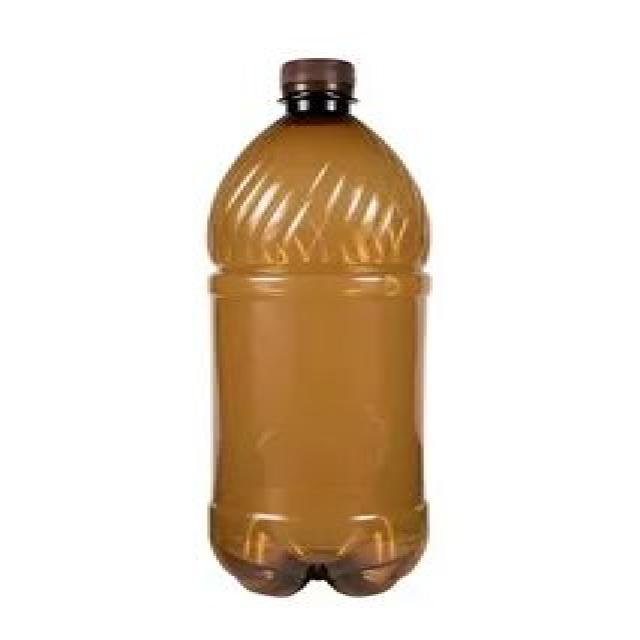brown: (203, 85, 428, 598)
